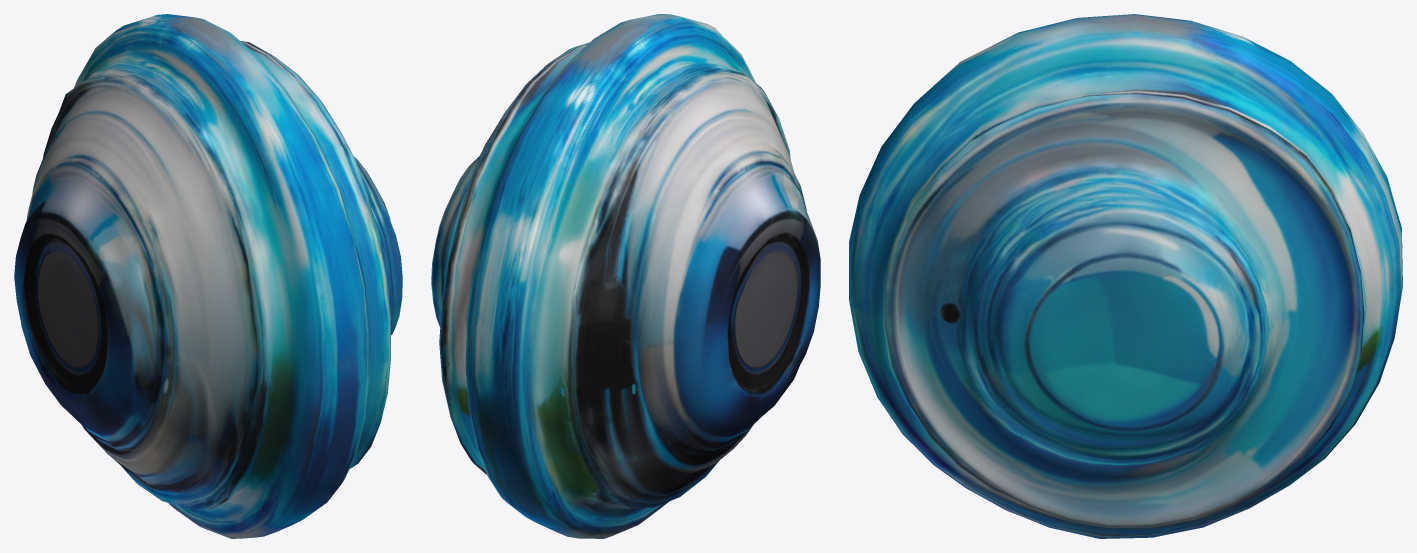
The model's file is SuctionCup.fbx.
3 views of the same model, side by side, from view 1: azimuth 30°, elevation 25°; view 2: azimuth 150°, elevation 25°; view 3: azimuth 270°, elevation 25° (orthographic). The views are drawn at different scales.
Visible parts, largest first — view 1: RETOPO; view 2: RETOPO; view 3: RETOPO.
Boxes of the visible parts, <box> form: RETOPO: <box>14,14,402,538</box>; RETOPO: <box>431,14,820,538</box>; RETOPO: <box>849,14,1402,538</box>.
Bounding box in the file's own units: 47.08 × 74.03 × 72.41.
Materials: 1 (1 with a texture image).
